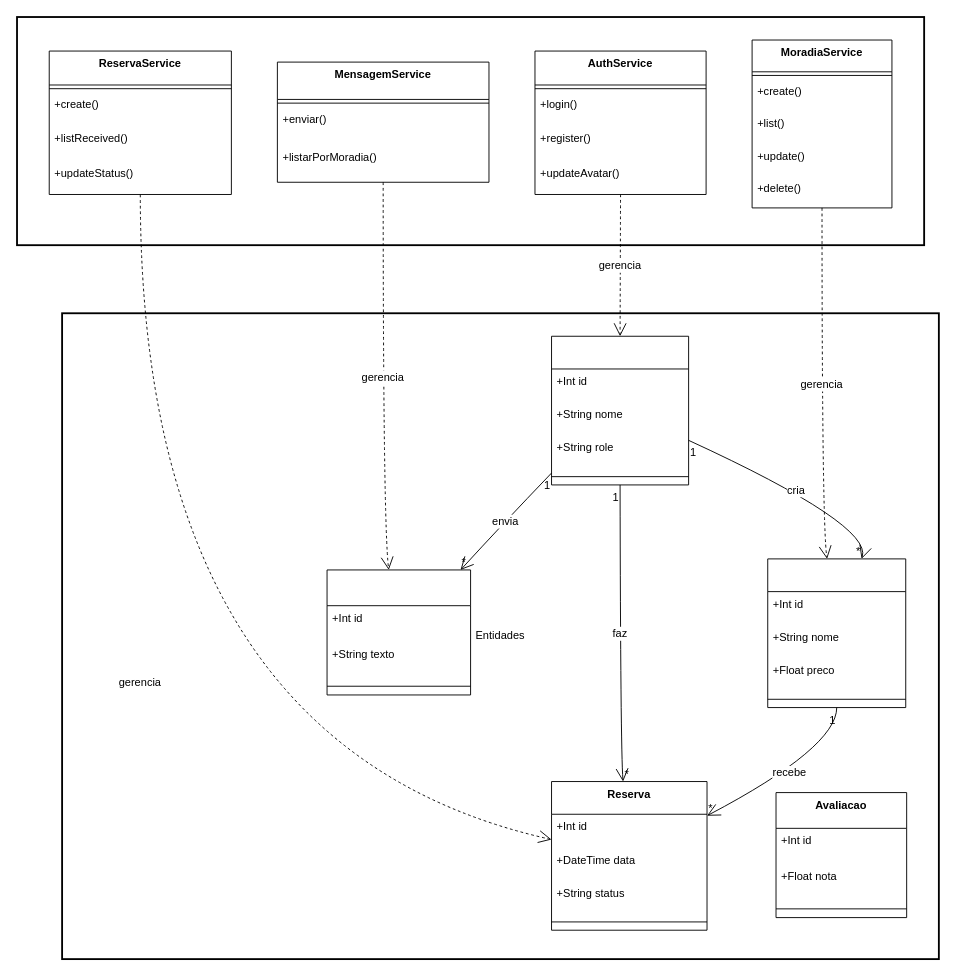
Some shapes in this 955 by 975 pixel diagram are drawn without their labels. Here are the shapes that lost their labels. From the top down, the box of each, then its label:
(16, 16, 925, 246): Services
(551, 335, 689, 485): Usuario
(326, 569, 471, 695): Mensagem
(767, 558, 906, 708): Moradia
